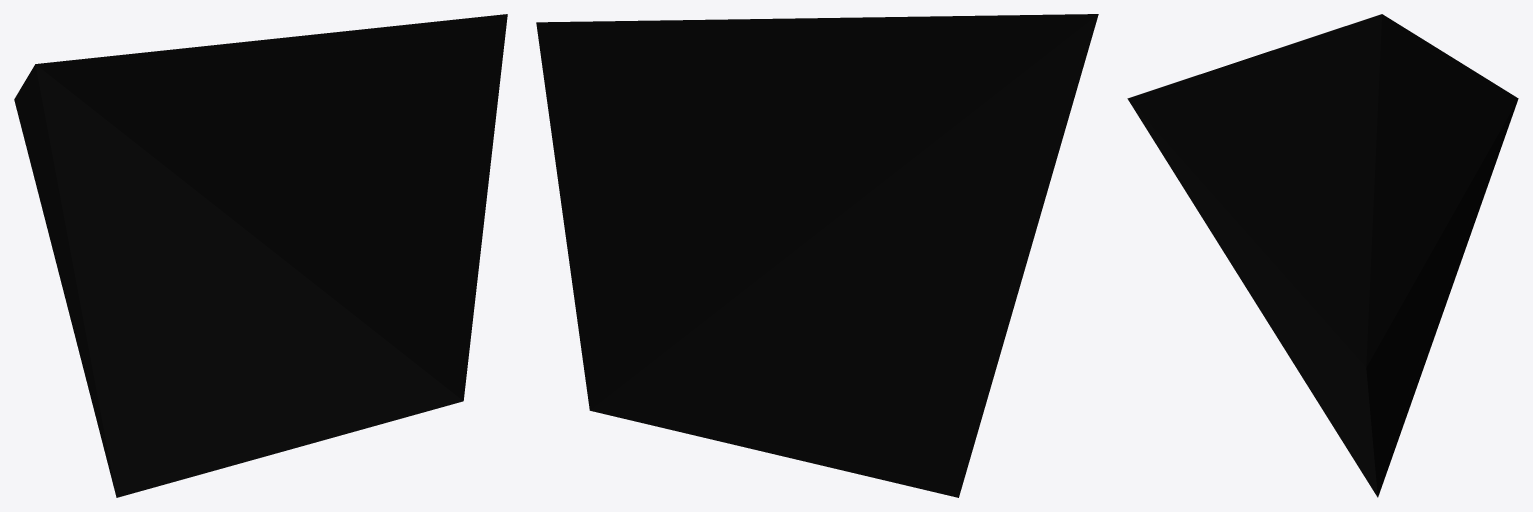
3 renders of one model, left to right at view 1: azimuth 30°, elevation 25°; view 2: azimuth 150°, elevation 25°; view 3: azimuth 270°, elevation 25°, orthographic. The views are drawn at different scales.
Size of the model in its own units: 0.1284 by 0.1025 by 0.1138.
Materials: 1 (1 with a texture image).
